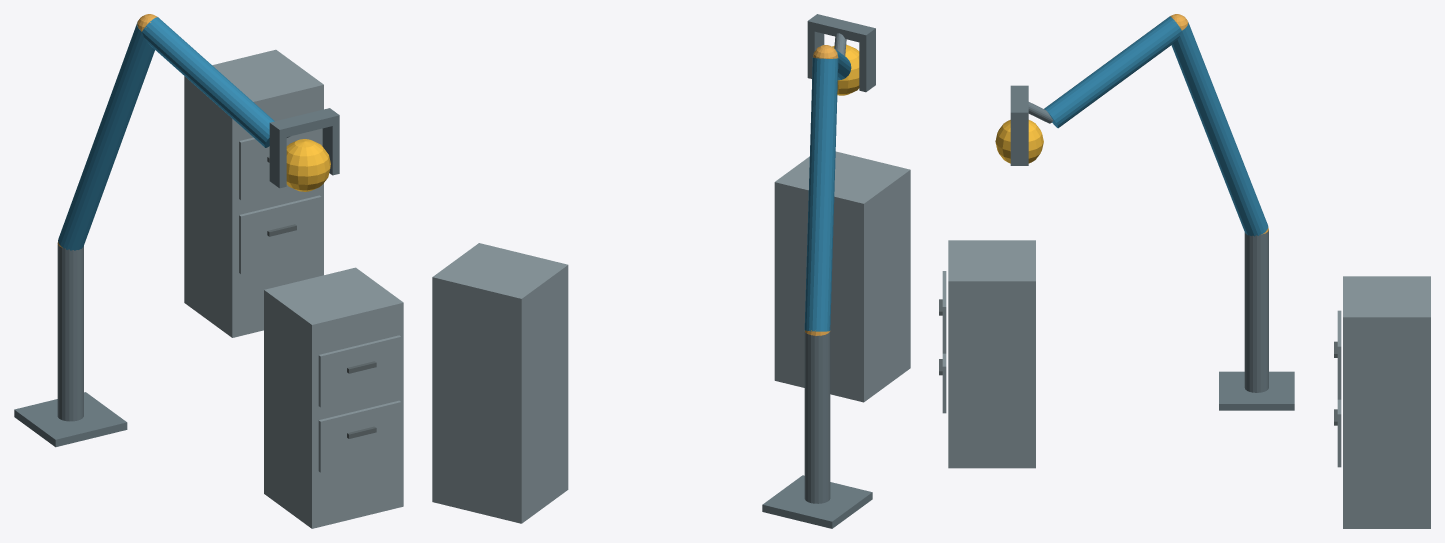
3 views of the same model, side by side, from view 1: azimuth 30°, elevation 25°; view 2: azimuth 150°, elevation 25°; view 3: azimuth 270°, elevation 25° (orthographic). The views are drawn at different scales.
Visible parts, largest first — view 1: cabinet_1 body, cabinet_2 body, moving link 1, cabinet_2 drawer front, fixed post, moving link 2, cabinet_1 drawer front.001, cabinet_1 drawer front, pedestal, cabinet_2 drawer front.001, ball ball_1, gripper bridge (+2 smaller); view 2: cabinet_2 body, cabinet_1 body, moving link 1, fixed post, pedestal, gripper bridge, gripper finger -1, ball ball_1; view 3: cabinet_2 body, cabinet_1 body, moving link 1, fixed post, moving link 2, pedestal, ball ball_1, gripper finger 1, gripper bridge.
Boxes of the visible parts, x1,y1,x2,y2 form: cabinet_1 body: (264, 267, 403, 528); cabinet_2 body: (184, 49, 323, 337); moving link 1: (58, 22, 154, 250); cabinet_2 drawer front: (239, 195, 321, 273); fixed post: (57, 244, 83, 421); moving link 2: (142, 17, 274, 147); cabinet_1 drawer front.001: (318, 335, 401, 407); cabinet_1 drawer front: (318, 400, 401, 472); pedestal: (14, 392, 127, 447); cabinet_2 drawer front.001: (239, 128, 321, 200); ball ball_1: (286, 139, 330, 191); gripper bridge: (269, 108, 339, 138); cabinet_2 body: (432, 243, 568, 523); cabinet_1 body: (774, 151, 910, 402); moving link 1: (804, 57, 838, 331); fixed post: (804, 331, 830, 503); pedestal: (762, 475, 872, 528); gripper bridge: (807, 14, 875, 43); gripper finger -1: (859, 37, 875, 92); ball ball_1: (832, 44, 859, 95); cabinet_2 body: (1343, 276, 1430, 528); cabinet_1 body: (948, 240, 1035, 468); moving link 1: (1171, 22, 1268, 236); fixed post: (1244, 230, 1268, 392); moving link 2: (1044, 16, 1181, 128); pedestal: (1219, 371, 1294, 410); ball ball_1: (995, 120, 1043, 163); gripper finger 1: (1010, 120, 1028, 165); gripper bridge: (1010, 85, 1028, 120).
Bounding box in the file's own units: 1.17 × 1.44 × 1.62.
